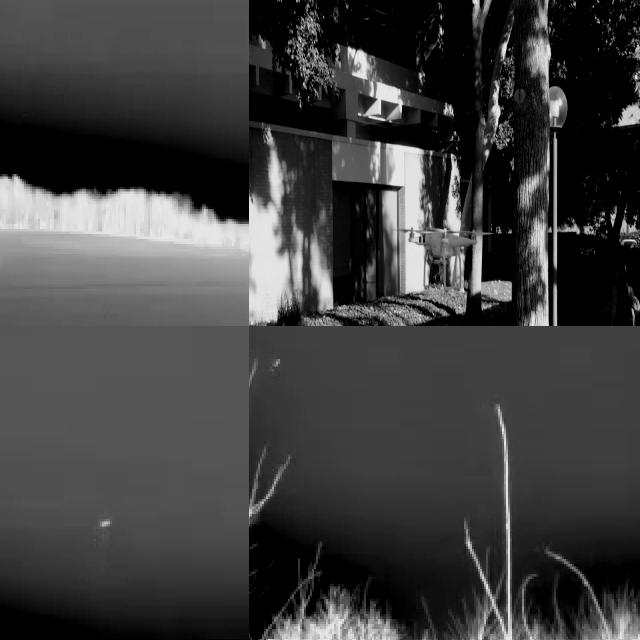0: (270, 351, 290, 379)
1: (87, 509, 123, 549)
drone: (409, 221, 479, 288)
